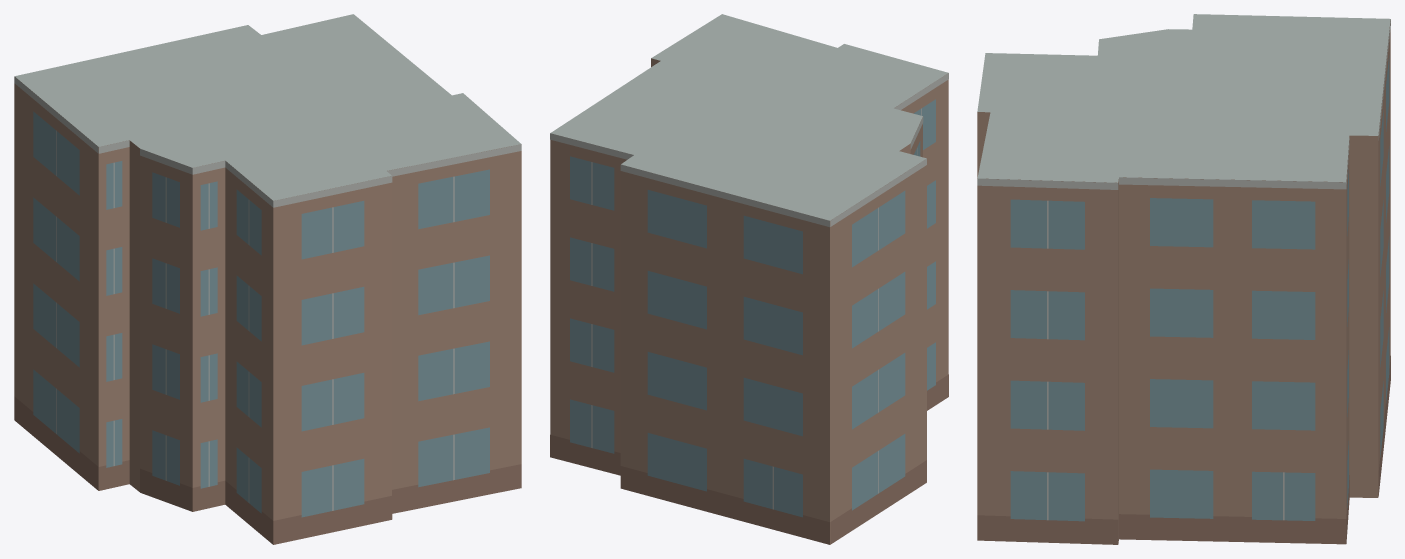
The model's file is survey-upis-32652706.glb.
3 renders of one model, left to right at view 1: azimuth 30°, elevation 25°; view 2: azimuth 150°, elevation 25°; view 3: azimuth 270°, elevation 25°, orthographic. The views are drawn at different scales.
Visible parts, largest first — view 1: survey-upis-32652706.tmp; view 2: survey-upis-32652706.tmp; view 3: survey-upis-32652706.tmp.
Part boxes in pixels (left/top/right/bottom): survey-upis-32652706.tmp: left=14, top=14, right=521, bottom=544; survey-upis-32652706.tmp: left=550, top=14, right=948, bottom=544; survey-upis-32652706.tmp: left=977, top=14, right=1390, bottom=544.
Size of the model in its own units: 12.21 by 12.2 by 12.63.
